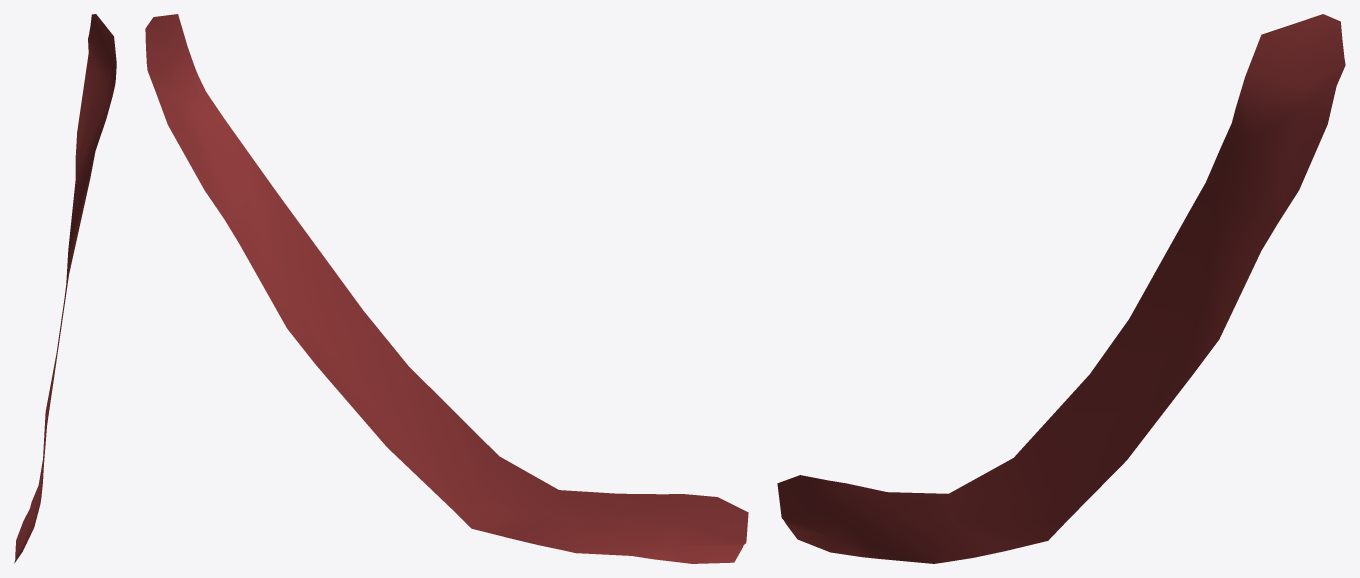
File: thyrohyoid-muscle-el.glb
The picture shows the model from 3 angles, left to right: view 1: azimuth 30°, elevation 25°; view 2: azimuth 150°, elevation 25°; view 3: azimuth 270°, elevation 25°; orthographic projection. The views are drawn at different scales.
Visible parts, largest first — view 1: Thyrohyoid muscle.el; view 2: Thyrohyoid muscle.el; view 3: Thyrohyoid muscle.el.
Part boxes in pixels (left/top/right/bottom): Thyrohyoid muscle.el: left=14, top=14, right=116, bottom=563; Thyrohyoid muscle.el: left=145, top=14, right=748, bottom=563; Thyrohyoid muscle.el: left=777, top=14, right=1345, bottom=563.
Size of the model in its own units: 0.0117 by 0.0192 by 0.0136.
